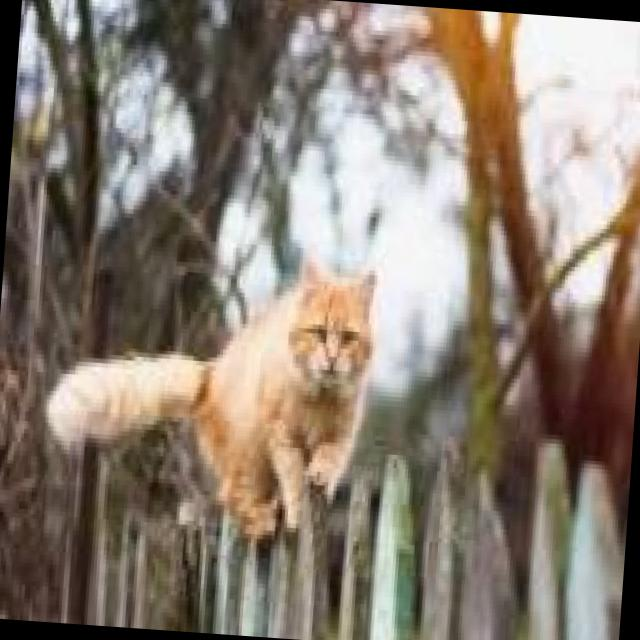Gato: (35, 234, 390, 546)
